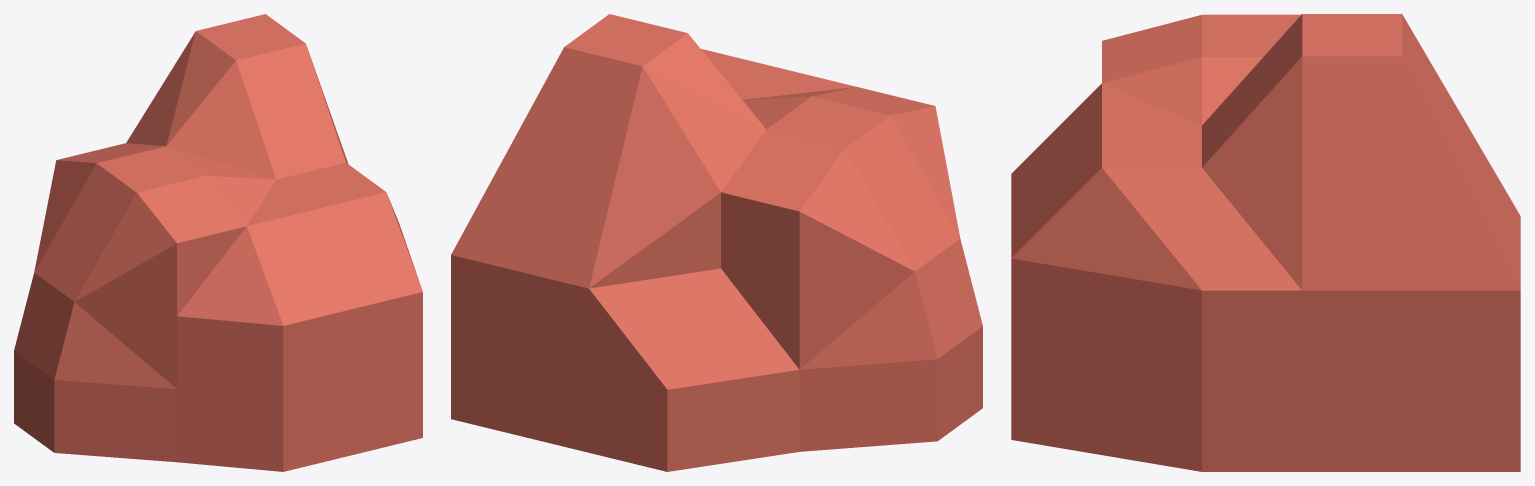
3 renders of one model, left to right at view 1: azimuth 30°, elevation 25°; view 2: azimuth 150°, elevation 25°; view 3: azimuth 270°, elevation 25°, orthographic. The views are drawn at different scales.
Visible parts, largest first — view 1: 立方体; view 2: 立方体; view 3: 立方体.
Boxes of the visible parts, <box> form: 立方体: <box>14,14,422,471</box>; 立方体: <box>451,14,982,471</box>; 立方体: <box>1011,14,1520,471</box>.
Bounding box in the file's own units: 3.29 × 2.82 × 3.39.
